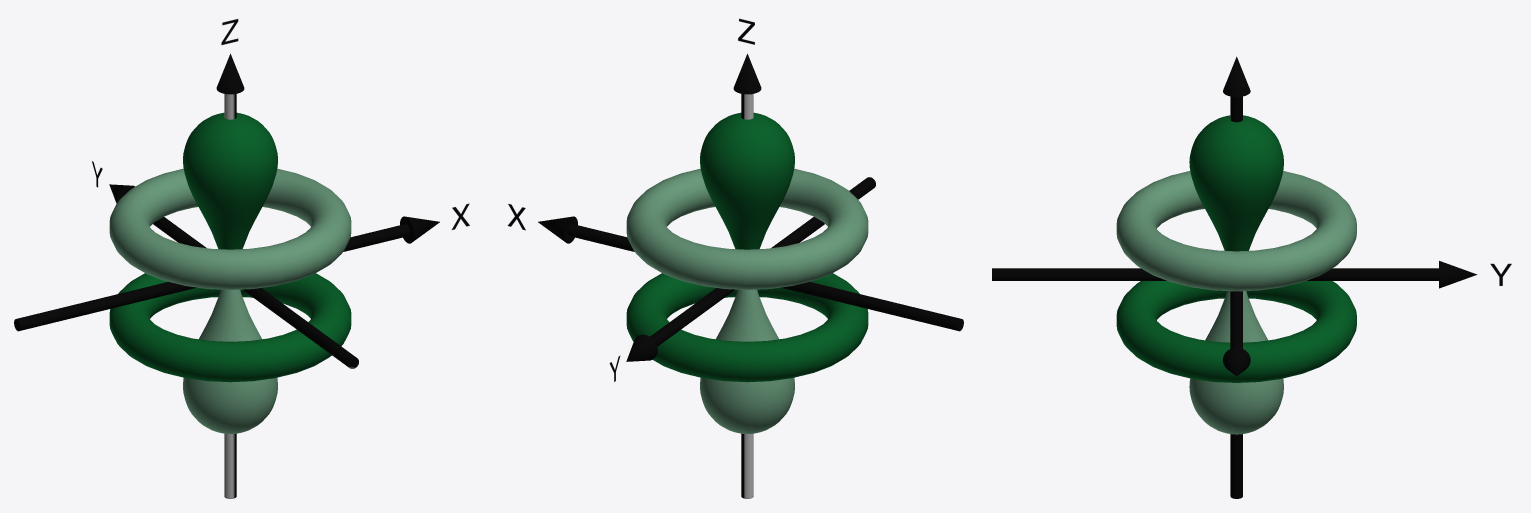
3 views of the same model, side by side, from view 1: azimuth 30°, elevation 25°; view 2: azimuth 150°, elevation 25°; view 3: azimuth 270°, elevation 25° (orthographic).
Visible parts, largest first — view 1: FOrbital; view 2: FOrbital; view 3: FOrbital.
Part boxes in pixels (<box>): FOrbital: <box>14,53,439,498</box>; FOrbital: <box>538,53,963,498</box>; FOrbital: <box>992,56,1477,498</box>.
Bounding box in the file's own units: 93.5 × 93.5 × 93.5.
2 materials, 2 textured.
